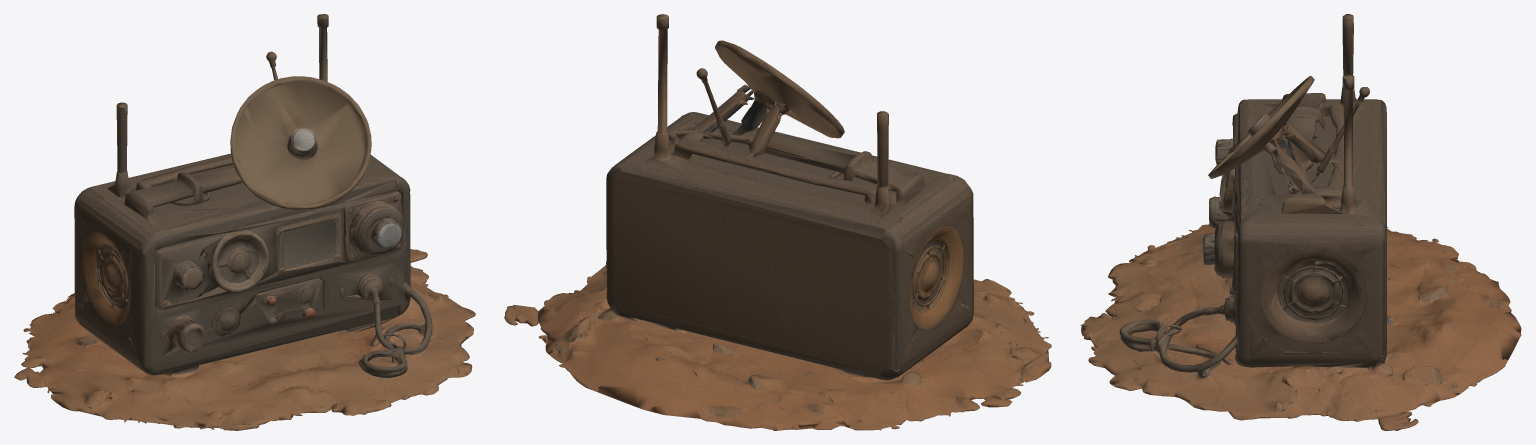
Rendered from radio.glb.
3 views of the same model, side by side, from view 1: azimuth 30°, elevation 25°; view 2: azimuth 150°, elevation 25°; view 3: azimuth 270°, elevation 25° (orthographic). The views are drawn at different scales.
Parts seen in each view (by area): view 1: mesh_node; view 2: mesh_node; view 3: mesh_node.
Boxes of the visible parts, x1,y1,x2,y2 form: mesh_node: [14, 14, 475, 430]; mesh_node: [504, 14, 1051, 430]; mesh_node: [1080, 14, 1521, 430].
Size of the model in its own units: 0.7195 by 0.45 by 0.6102.
1 material, 1 textured.
